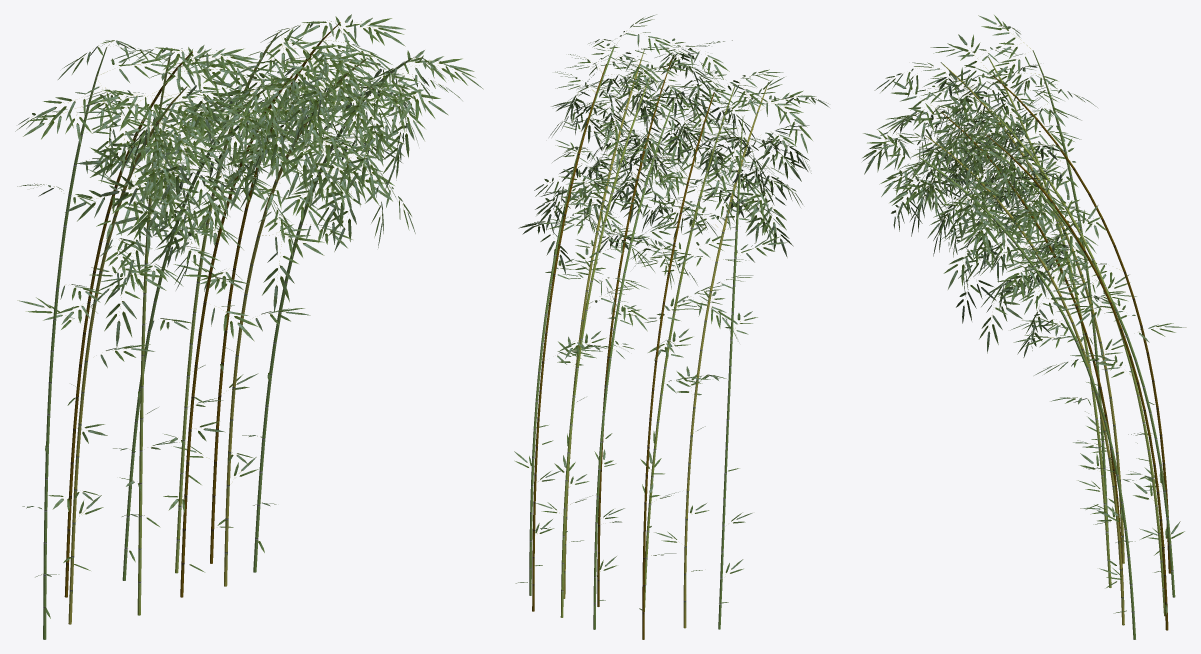
The model's file is sweethome3d-scopia-bamboo.glb.
3 renders of one model, left to right at view 1: azimuth 30°, elevation 25°; view 2: azimuth 150°, elevation 25°; view 3: azimuth 270°, elevation 25°, orthographic. The views are drawn at different scales.
Parts seen in each view (by area): view 1: Leaves, Trunk; view 2: Leaves, Trunk; view 3: Leaves, Trunk.
Boxes of the visible parts, x1,y1,x2,y2 form: Leaves: (15, 14, 483, 618); Trunk: (43, 22, 411, 639); Leaves: (514, 14, 829, 610); Trunk: (529, 45, 768, 639); Leaves: (862, 15, 1186, 614); Trunk: (919, 50, 1175, 639).
Bounding box in the file's own units: 300 × 500 × 278.
Materials: 2 (2 with a texture image).
